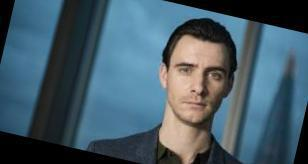Sober: (172, 39, 223, 119)
